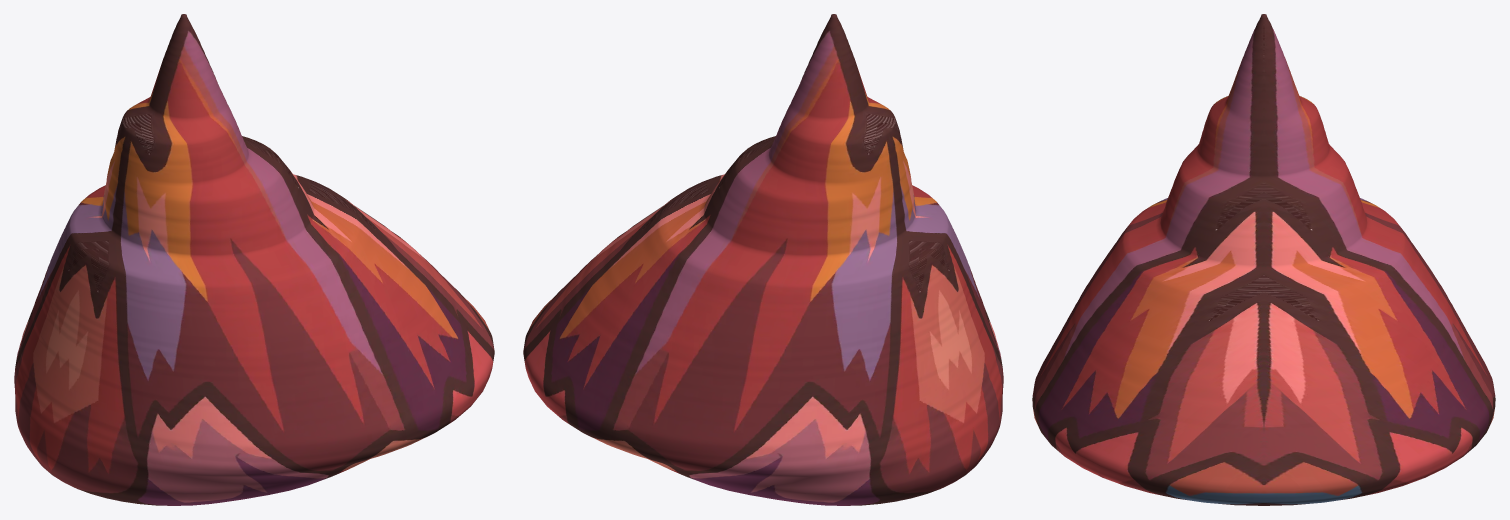
Rendered from red_crystal_spires.glb.
The picture shows the model from 3 angles, left to right: view 1: azimuth 30°, elevation 25°; view 2: azimuth 150°, elevation 25°; view 3: azimuth 270°, elevation 25°; orthographic projection. The views are drawn at different scales.
Visible parts, largest first — view 1: red_crystal_spires; view 2: red_crystal_spires; view 3: red_crystal_spires.
Boxes of the visible parts, <box> form: red_crystal_spires: <box>14,14,494,505</box>; red_crystal_spires: <box>523,14,1003,505</box>; red_crystal_spires: <box>1032,14,1495,505</box>.
Bounding box in the file's own units: 0.9974 × 1.01 × 0.9751.
Materials: 1 (1 with a texture image).
